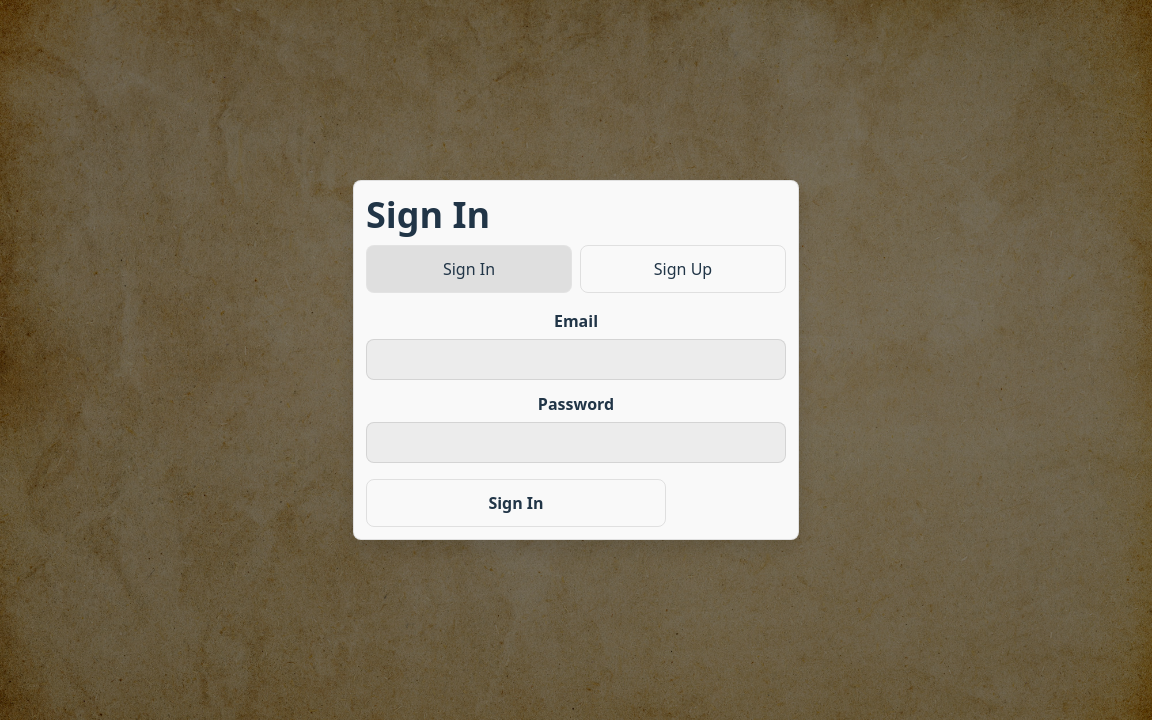
LoginWindow › switches to sign up mode when Sign Up tab is clicked
Step 1. Click the tab "Sign Up" → x=683, y=269, box [580, 245, 786, 293]
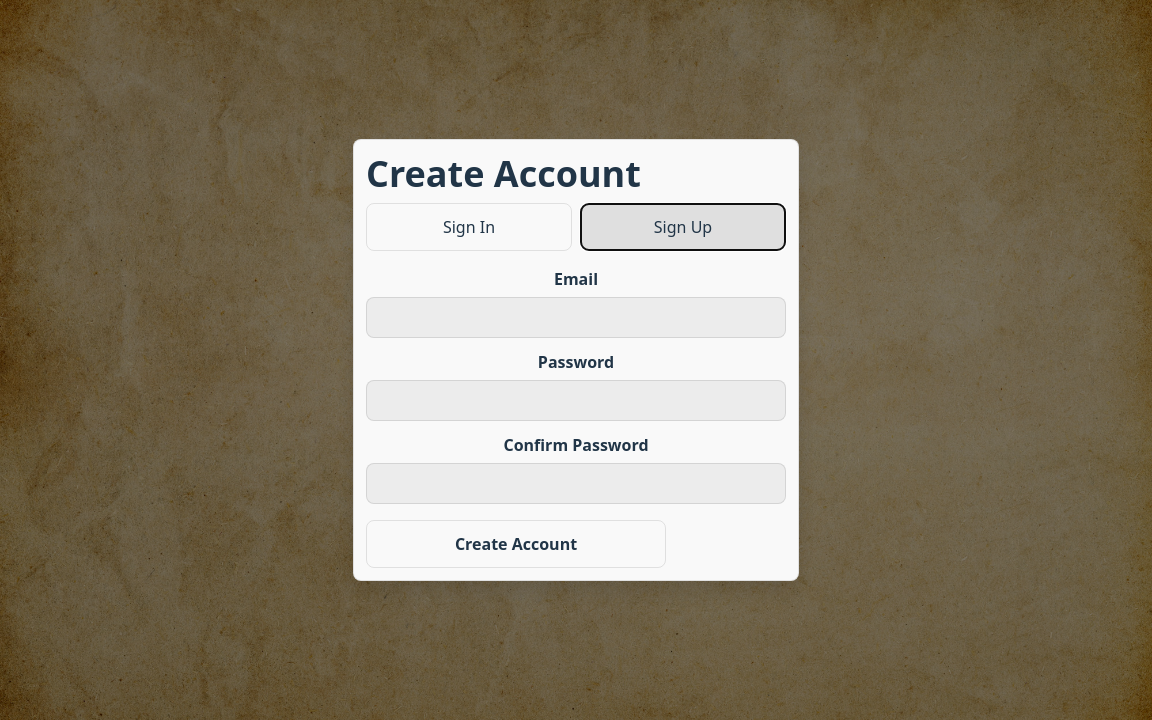
Result: the heading "Create Account" is shown at [366, 152, 641, 195]
Result: the password field labelled "Confirm Password" is shown at [366, 463, 786, 504]
